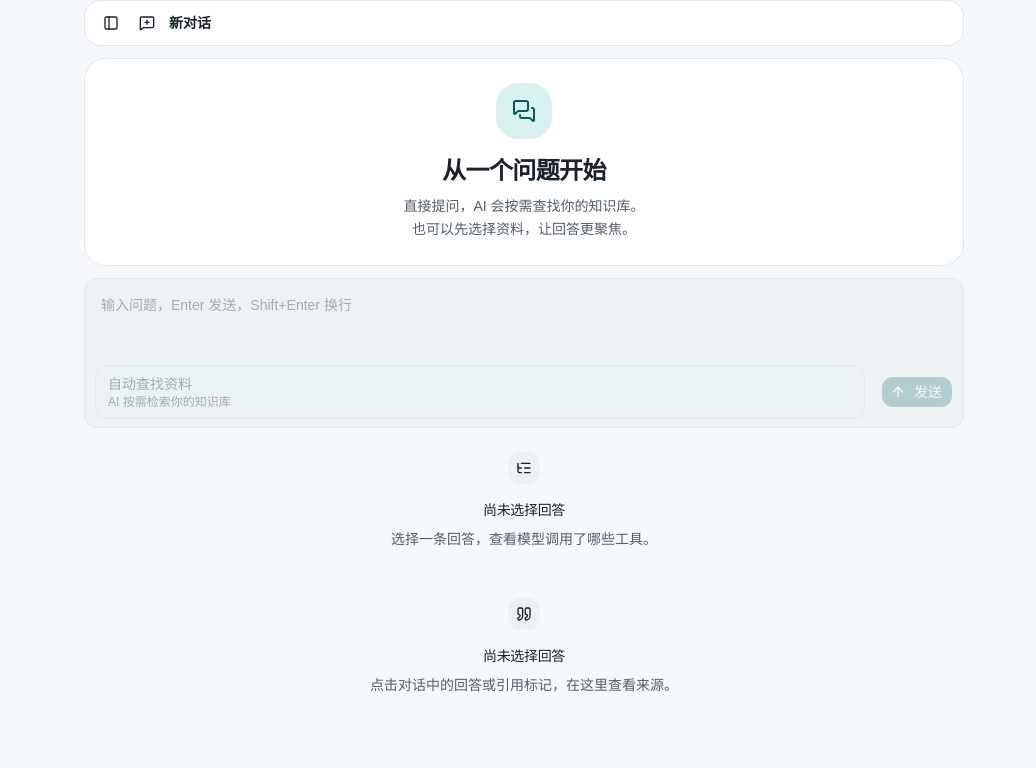
Test: ChatView streaming › shows an interruption notice when the stream ends without done
Type "你好" into the text box labelled "问题" at [524, 318], box [85,278,963,358]
Then press Enter
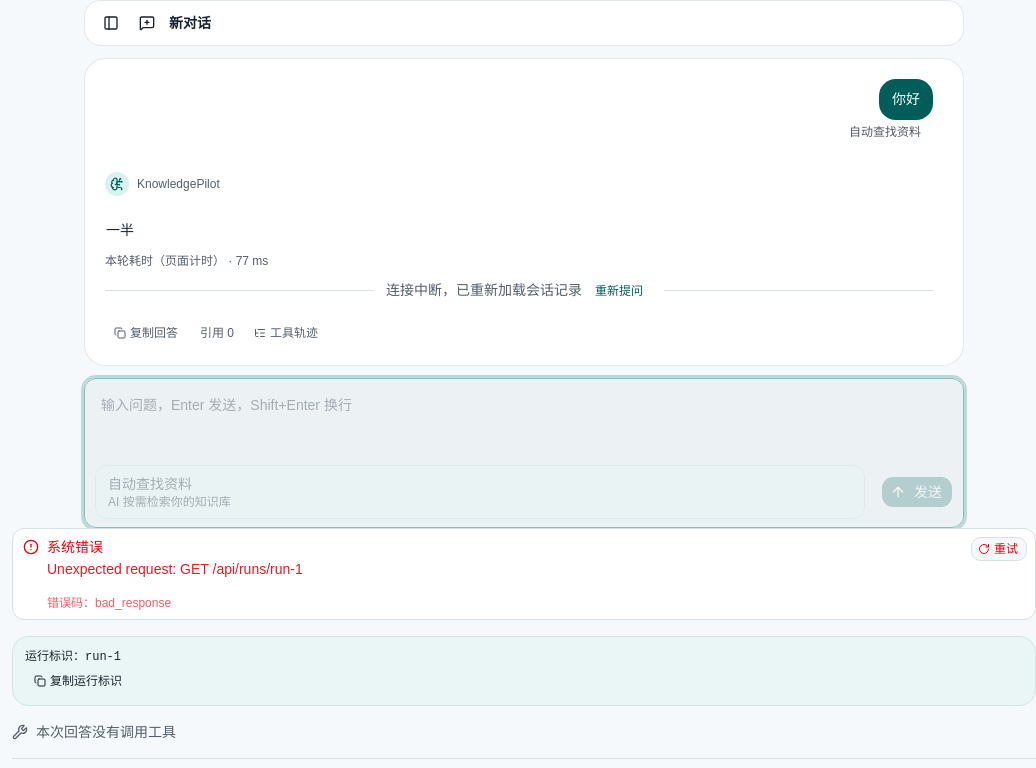
Expected: the button "发送" is shown, [881,476,953,508]
Now the text "连接中断，已重新加载会话记录" is shown, box [386,282,586,298]
